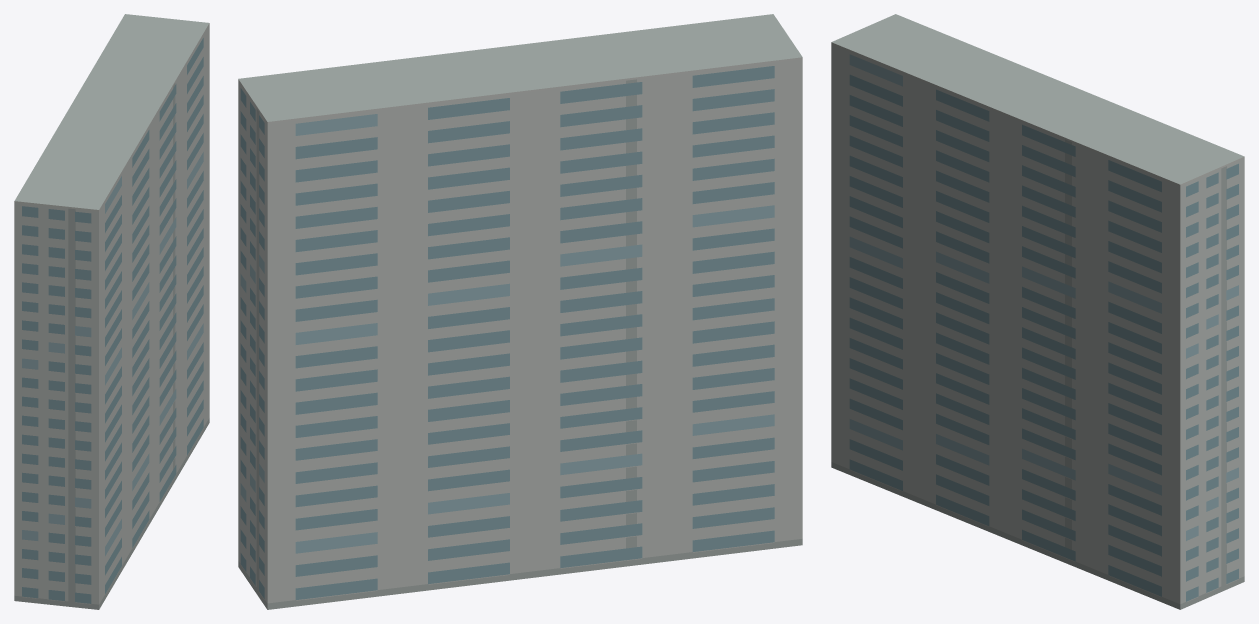
Rendered from residential-7015535c-179c-41ed-ab9f-a13beac6864c.glb.
The picture shows the model from 3 angles, left to right: view 1: azimuth 30°, elevation 25°; view 2: azimuth 150°, elevation 25°; view 3: azimuth 270°, elevation 25°; orthographic projection. The views are drawn at different scales.
Visible parts, largest first — view 1: residential-7015535c-179c-41ed-ab9f-a13beac6864c.tmp; view 2: residential-7015535c-179c-41ed-ab9f-a13beac6864c.tmp; view 3: residential-7015535c-179c-41ed-ab9f-a13beac6864c.tmp.
Boxes of the visible parts, x1,y1,x2,y2 form: residential-7015535c-179c-41ed-ab9f-a13beac6864c.tmp: (14,14,209,609); residential-7015535c-179c-41ed-ab9f-a13beac6864c.tmp: (238,14,802,609); residential-7015535c-179c-41ed-ab9f-a13beac6864c.tmp: (831,14,1244,609).
Bounding box in the file's own units: 49.93 × 58 × 51.1.
